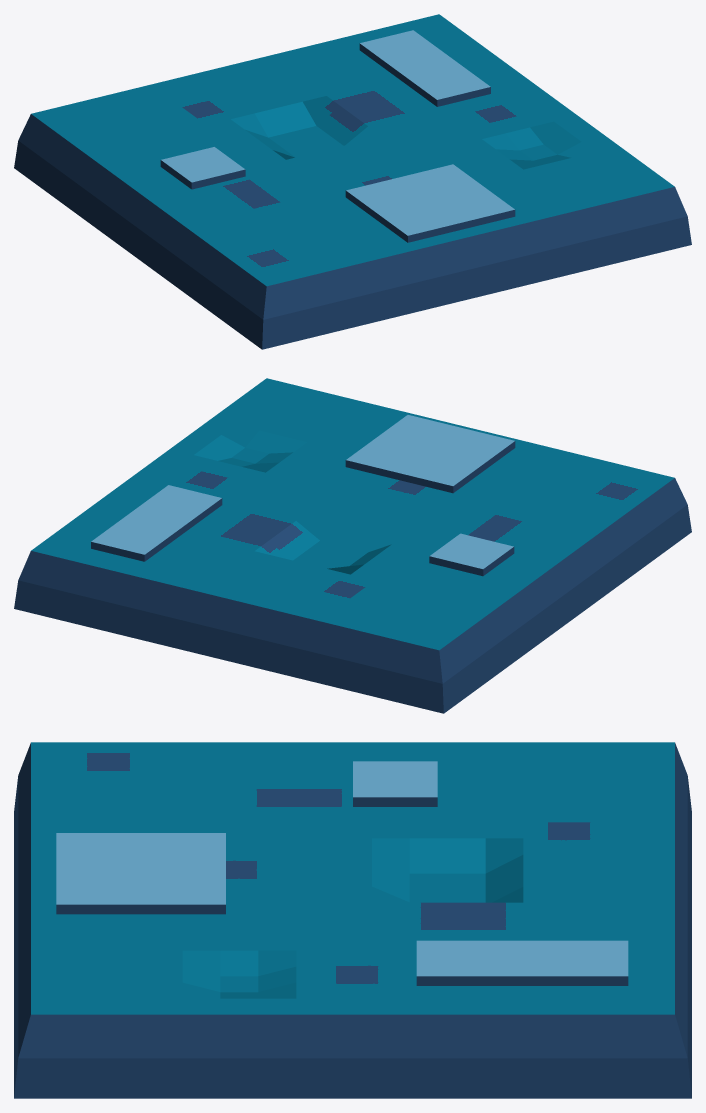
File: Dungeon_Tile_3.obj
3 views of the same model, one above another, from view 1: azimuth 30°, elevation 25°; view 2: azimuth 150°, elevation 25°; view 3: azimuth 270°, elevation 25° (orthographic). The views are drawn at different scales.
Visible parts, largest first — view 1: Block-col, cuboid; view 2: Block-col, cuboid; view 3: Block-col, cuboid.
Part boxes in pixels (x1=…): Block-col: x1=14, y1=14, x2=691, y2=349; cuboid: x1=160, y1=30, x2=515, y2=242; Block-col: x1=14, y1=378, x2=691, y2=713; cuboid: x1=91, y1=415, x2=515, y2=576; Block-col: x1=14, y1=742, x2=691, y2=1098; cuboid: x1=56, y1=761, x2=628, y2=985.
Bounding box in the file's own units: 1 × 0.1406 × 1.
Materials: 2 (2 with a texture image).
